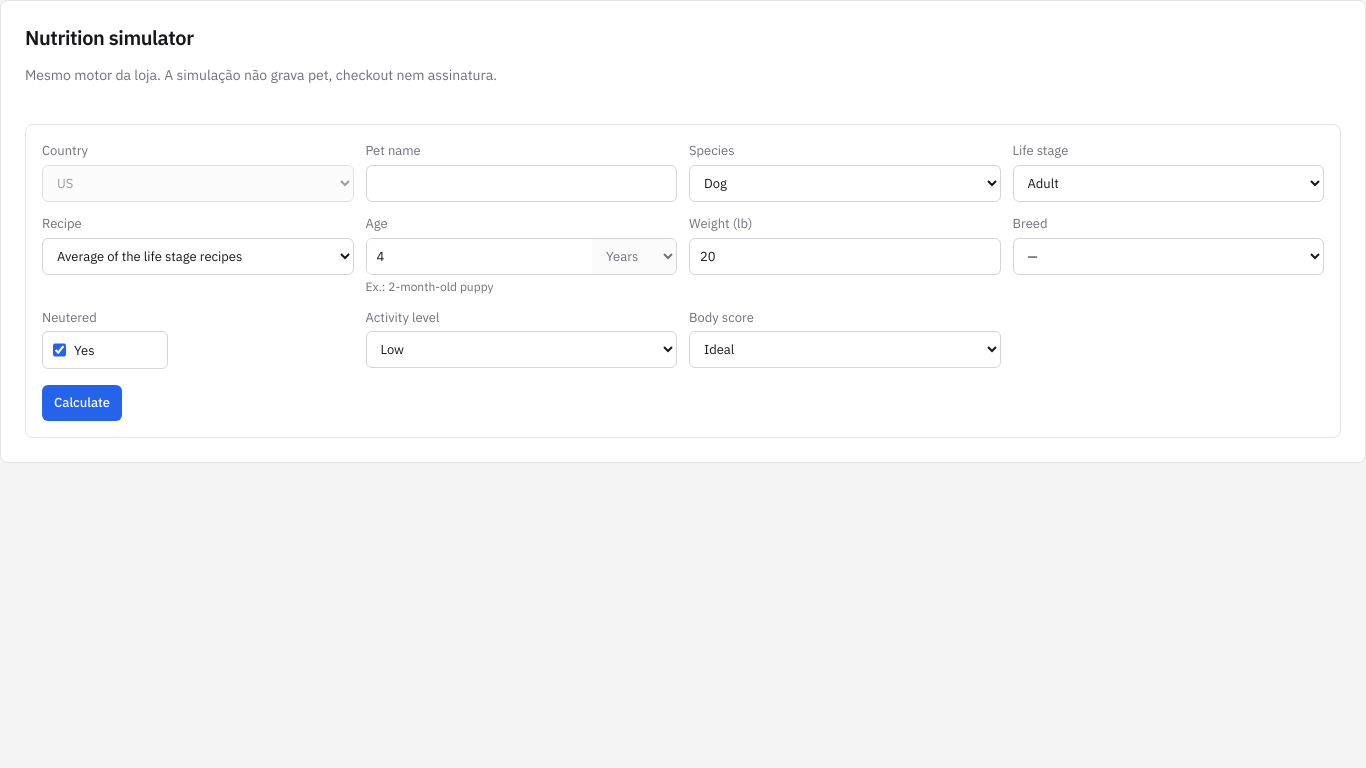
Scenario: NutritionSimulatePage › POSTs a simulation payload with Bearer and shows the result
The width and height of the screenshot is (1366, 768).
Expected: the button "Calculate" is shown, [42, 385, 122, 421]
Expected: the dropdown labelled "Country" shows "US", [42, 164, 354, 202]
Type "Luna" into the field labelled "Pet name" at (521, 183), box [366, 164, 677, 202]
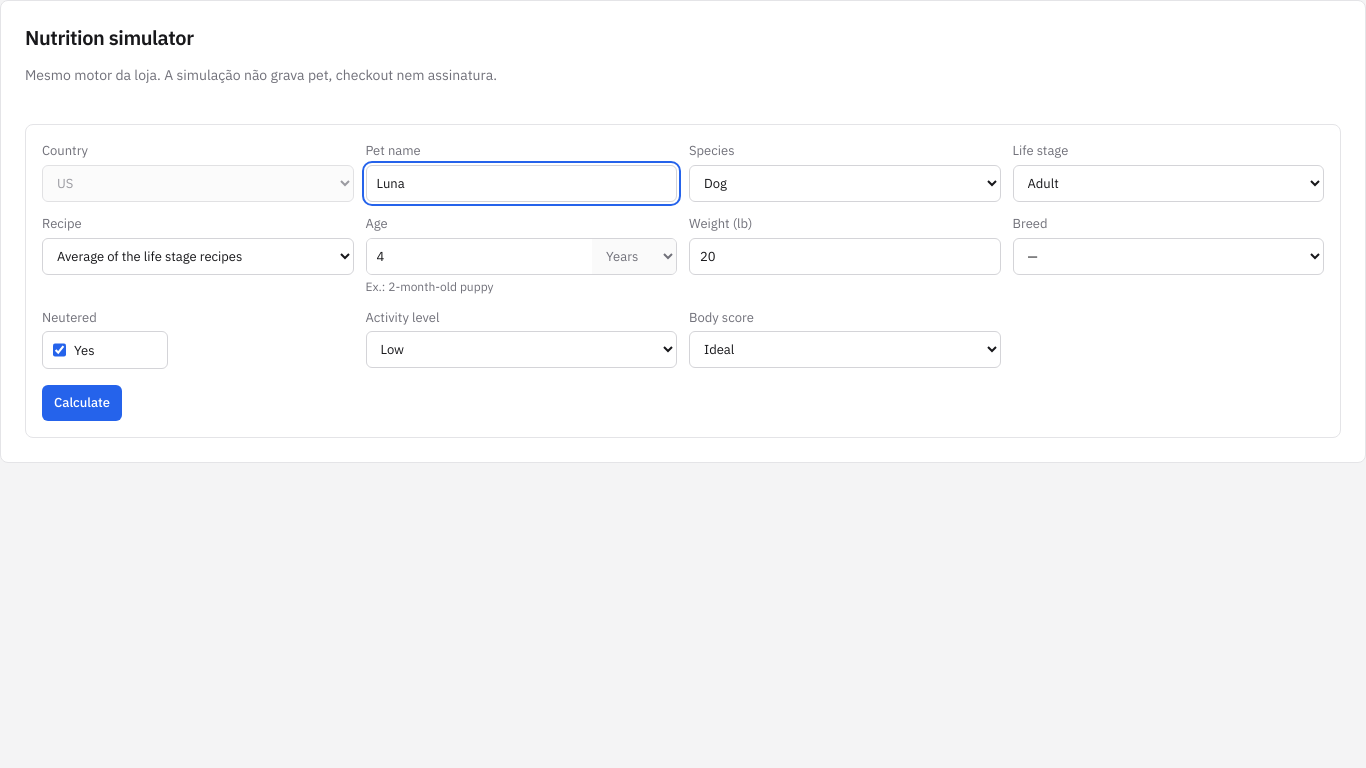
Click the button "Calculate" at (82, 403), box [42, 385, 122, 421]
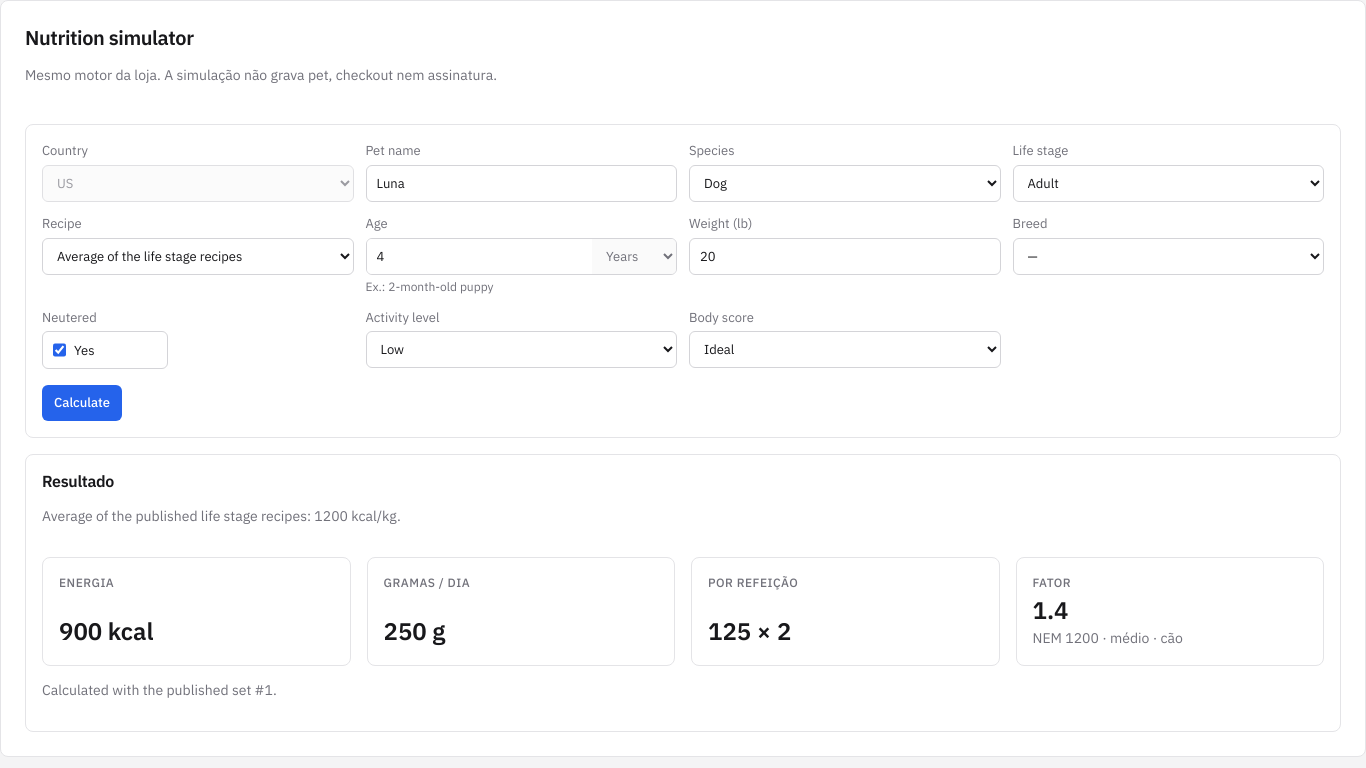
Expected: the text "900 kcal" is shown, [59, 615, 154, 647]
